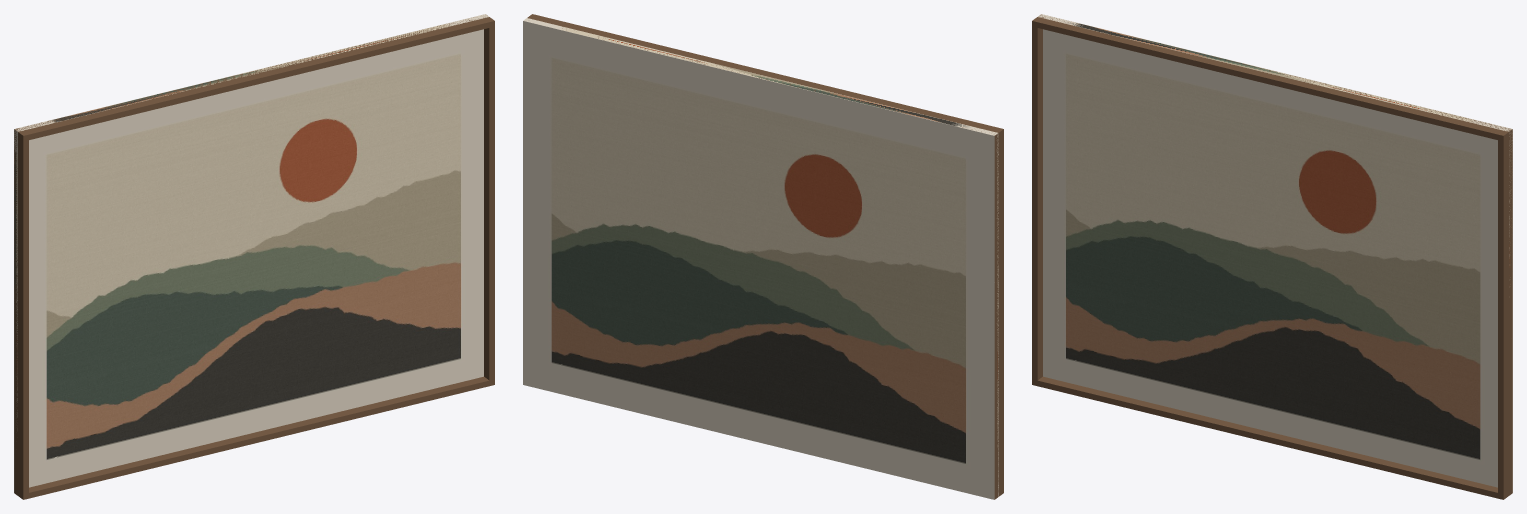
File: studio-hills.glb
3 renders of one model, left to right at view 1: azimuth 30°, elevation 25°; view 2: azimuth 150°, elevation 25°; view 3: azimuth 330°, elevation 25°, orthographic.
Size of the model in its own units: 1.64 by 1.21 by 0.0565.
2 materials, 1 textured.
